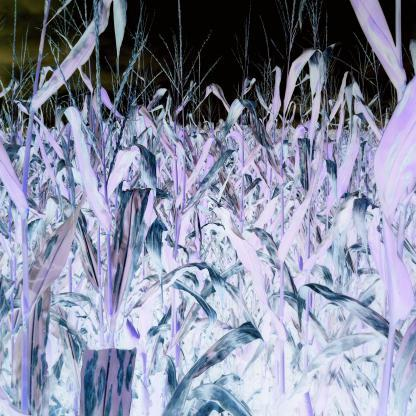Corn leaf blight: (372, 78, 414, 344), (25, 2, 112, 114), (166, 321, 263, 416), (297, 280, 413, 356), (24, 190, 87, 308), (58, 102, 110, 241), (108, 187, 156, 337), (125, 260, 225, 318), (346, 0, 406, 94), (78, 344, 140, 416), (178, 152, 238, 222), (282, 46, 326, 138), (26, 291, 55, 416), (220, 93, 274, 156)
